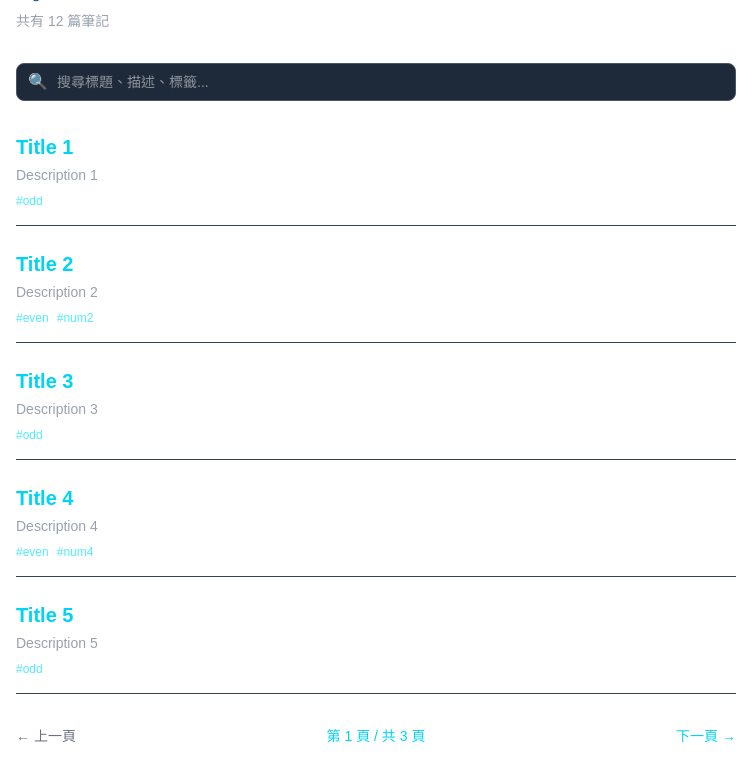
it: SearchNotes 組件整合測試 › 點擊「上一頁」返回第 1 頁
(page scrolled)
Click the button "下一頁 →" at [706, 736], box [676,726,736,746]
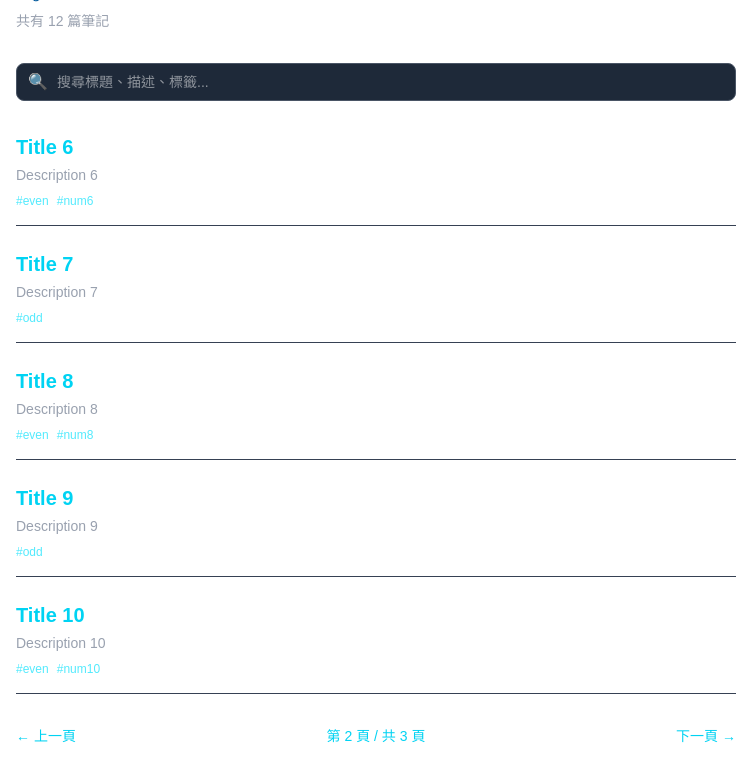
Click the button "← 上一頁" at [46, 736], box [16,726,76,746]
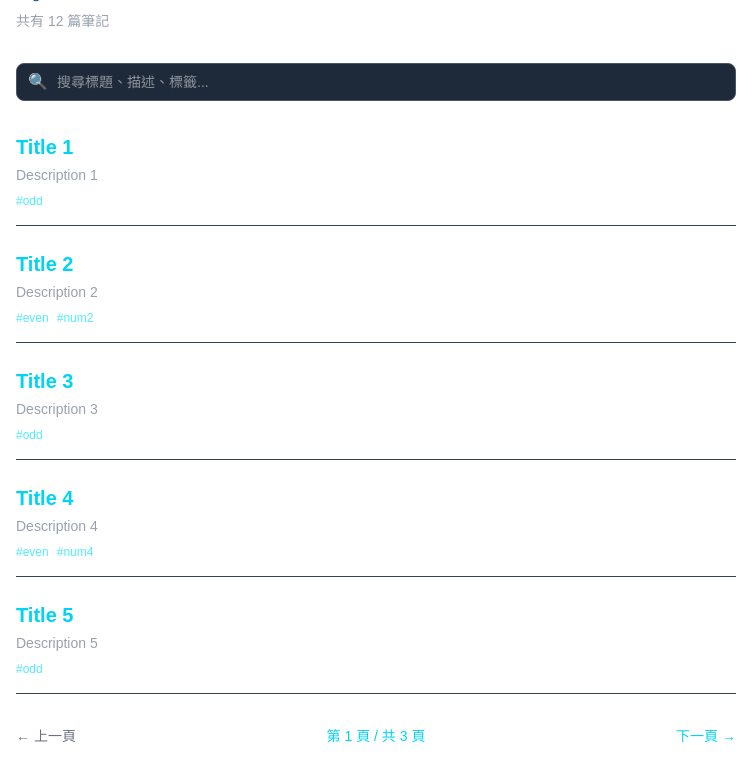
Expected: the heading "Title 1" is shown, [16,136,73,158]
Expected: the button "← 上一頁" is disabled, [16,726,76,746]
Expected: the text "第 1 頁 / 共 3 頁" is shown, [327,726,425,746]
